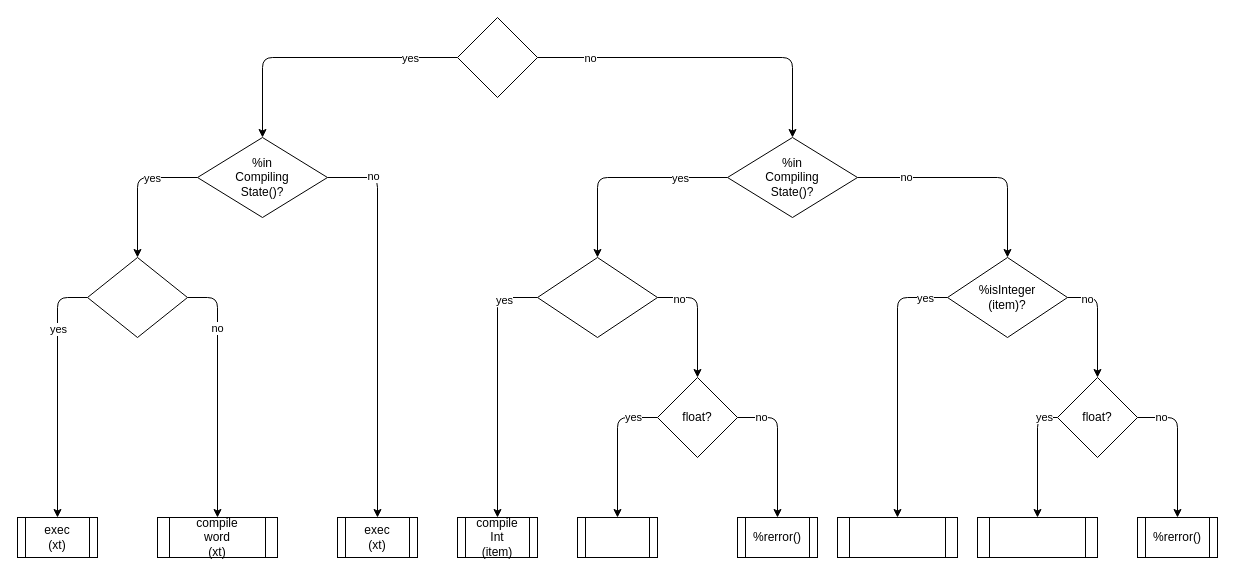
The diagram is 1235 pixels wide and 576 high, and some of its shapes have lost their labels. The shapes that lost their labels are listed below. From the top down, each one's centre as x and y in pixels, then its label:
At (497,57): "found?".
At (137,297): "found Immediate ?".
At (597,297): "%isInteger (item) ?".
At (617,537): "compile Float (item)".
At (897,537): "pushAsInt (item)".
At (1037,537): "pushAsFloat (item)".
